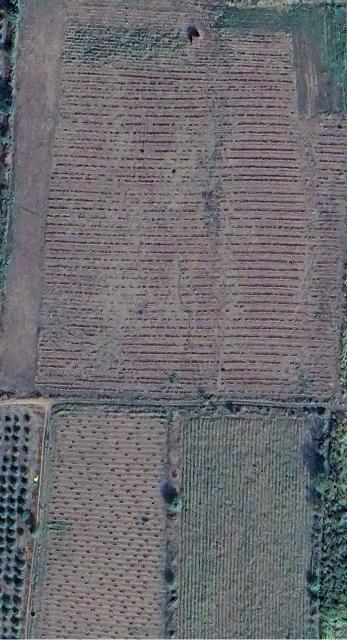Farms: (36, 4, 344, 404), (26, 403, 169, 633), (177, 416, 323, 640)
